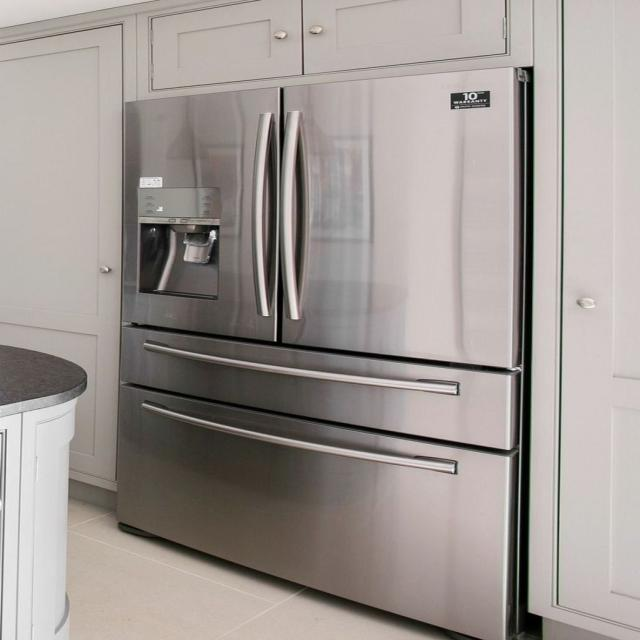obstacle: (114, 65, 532, 639), (136, 0, 534, 101), (0, 343, 87, 639)
